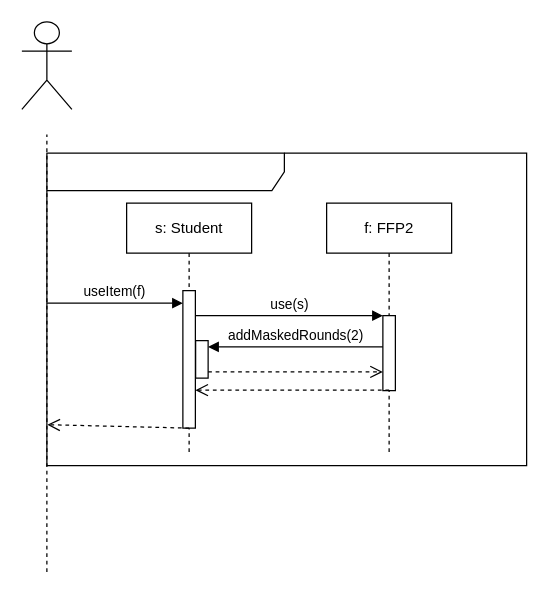
This 549x595 diagram has some shape labels left out. Each missing label, with the centre of its shape:
:Tester: point 46,65
sd Use FFP2: point 286,309
